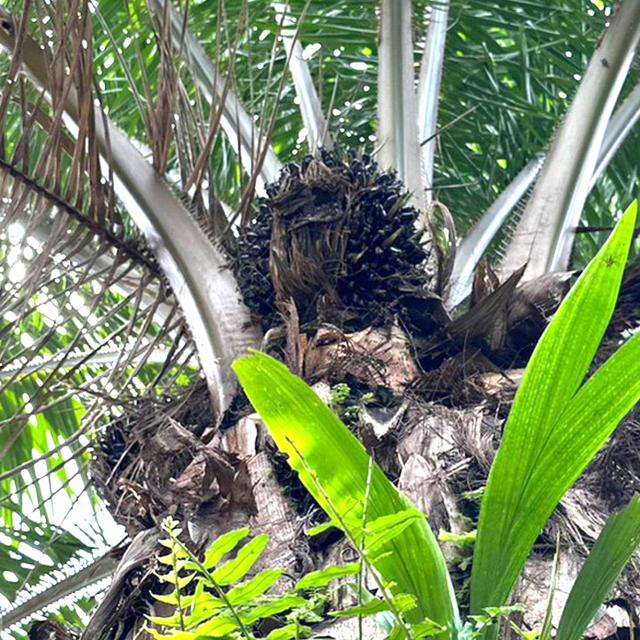unripe: (220, 132, 453, 379), (92, 381, 241, 531)
